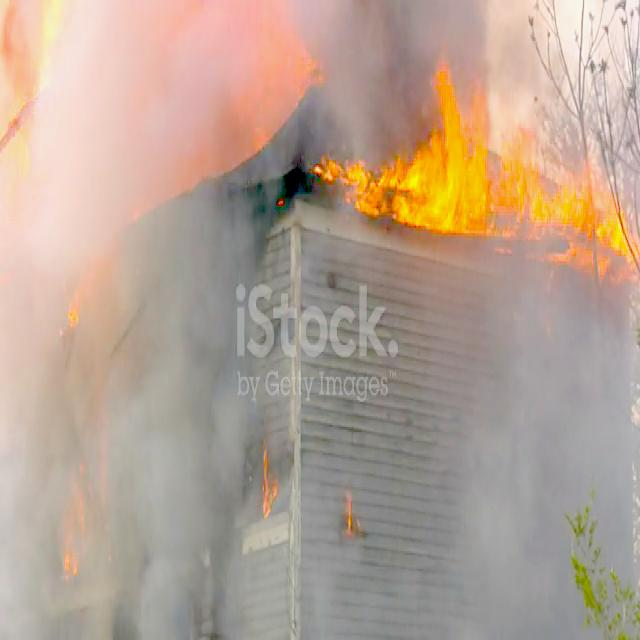fire: (331, 66, 637, 280), (179, 0, 308, 146)
smoke: (50, 24, 256, 614)
